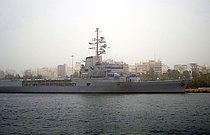MIL_Ship: (0, 47, 192, 94)
